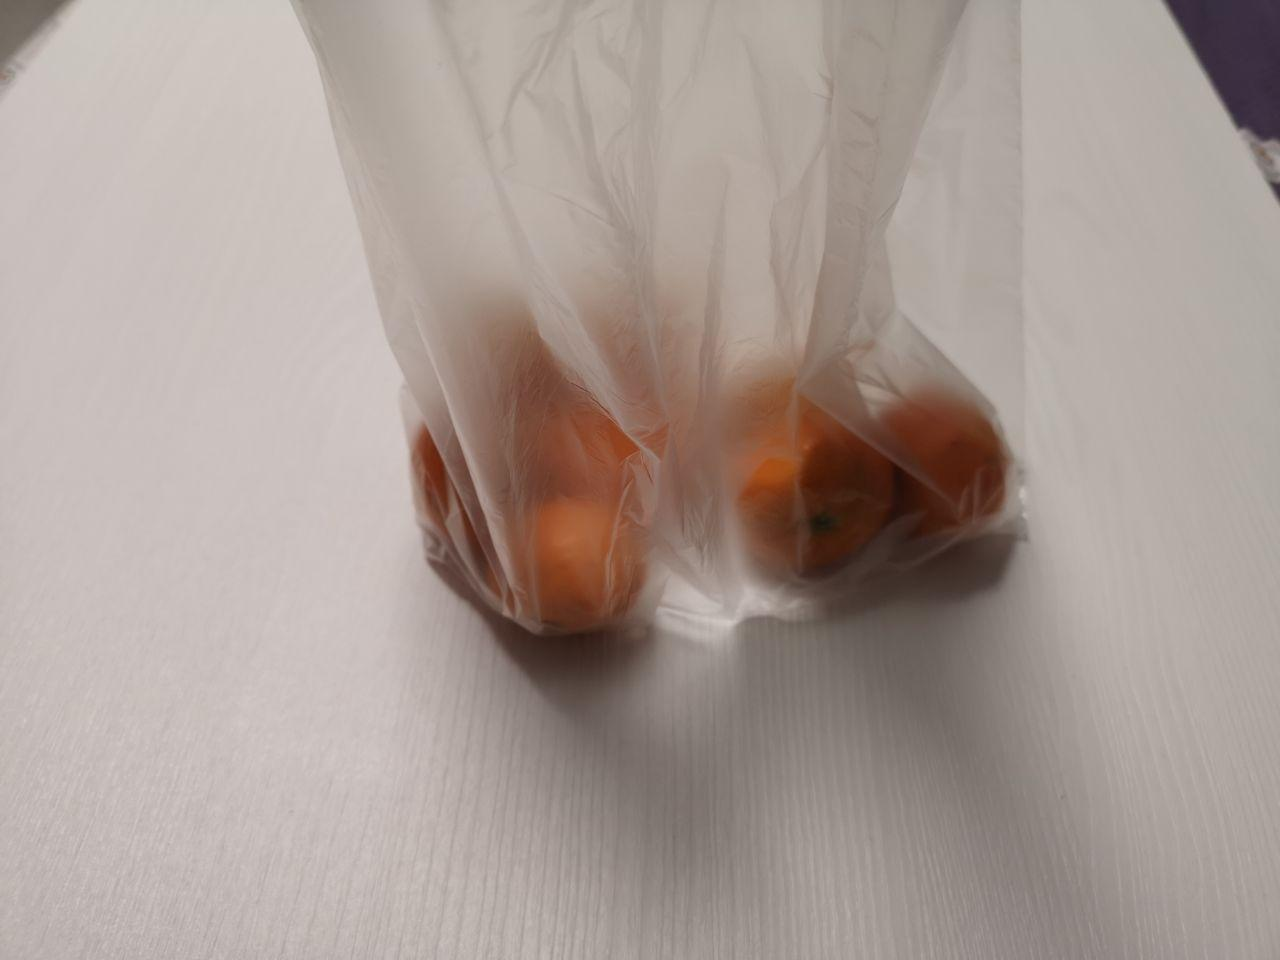clementin: (346, 259, 1070, 656)
